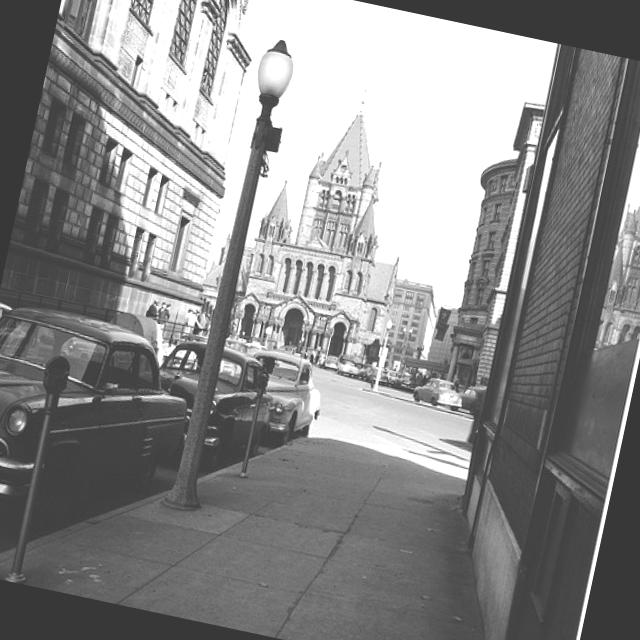Vehicle: (0, 299, 205, 544), (139, 334, 284, 480), (236, 346, 330, 454), (411, 374, 466, 412), (456, 378, 488, 424), (364, 364, 391, 385), (336, 359, 360, 378), (352, 362, 372, 382), (384, 370, 405, 388), (322, 354, 341, 372)
